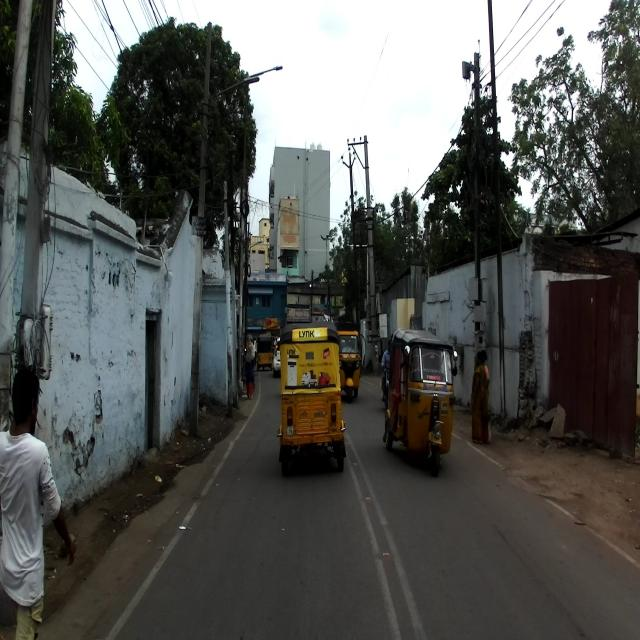autorickshaw: (382, 328, 458, 476), (276, 319, 347, 476)
